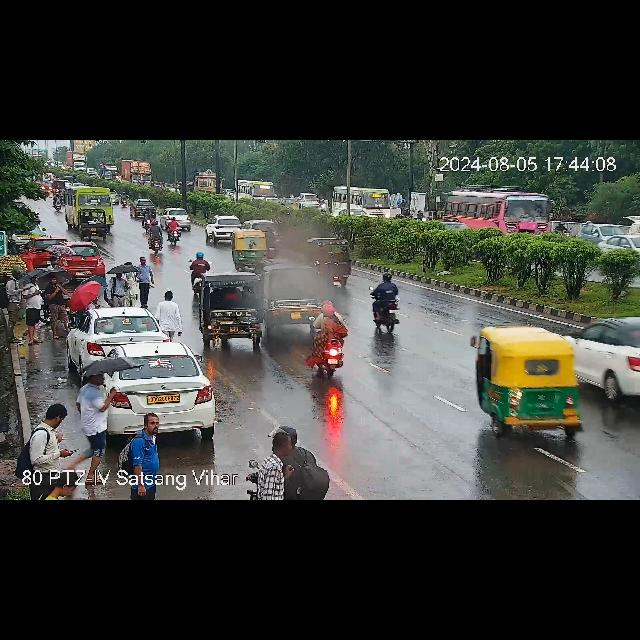bus: (441, 188, 554, 238), (326, 186, 404, 222), (58, 186, 115, 232), (236, 179, 280, 199)
car: (81, 344, 217, 438), (477, 325, 591, 435), (574, 312, 640, 400), (71, 308, 175, 360), (199, 276, 265, 348), (268, 268, 320, 328), (39, 241, 109, 275), (309, 236, 351, 284), (230, 231, 268, 269), (247, 217, 283, 250), (32, 235, 70, 265), (206, 215, 248, 241), (598, 232, 640, 254), (580, 222, 618, 242), (162, 208, 194, 226)
motorcycle: (311, 305, 349, 375), (367, 272, 408, 330), (76, 208, 108, 240), (146, 220, 162, 254), (166, 217, 182, 245), (554, 220, 572, 236), (142, 205, 152, 232), (414, 210, 428, 222)
person: (249, 426, 323, 500), (76, 368, 114, 452), (119, 417, 167, 478), (29, 408, 71, 474), (22, 274, 48, 338), (46, 276, 70, 336), (104, 264, 136, 306), (157, 288, 180, 342), (4, 270, 22, 332), (138, 256, 154, 308), (188, 250, 206, 294), (22, 247, 38, 270), (48, 256, 64, 270)
truck: (116, 160, 154, 186)
